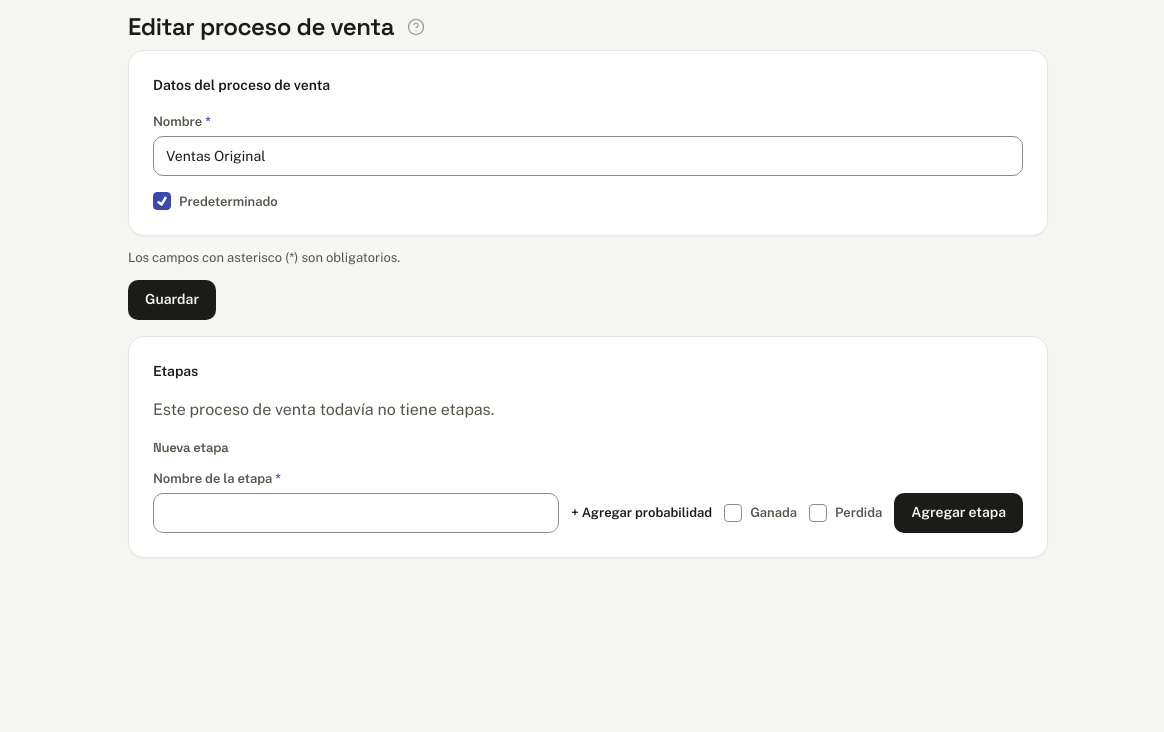
Test: PipelineFormPage › P20 edit mode: carga detail, hidrata isDefault, submit usa update sobre el id correcto, navega tras el éxito y muestra el toast
This screenshot has width=1164, height=732.
Expected: the field labelled "Nombre" holds "Ventas Original", left=153, top=136, right=1023, bottom=176
Click the checkbox labelled "Predeterminado" at (162, 201), box left=153, top=192, right=171, bottom=210
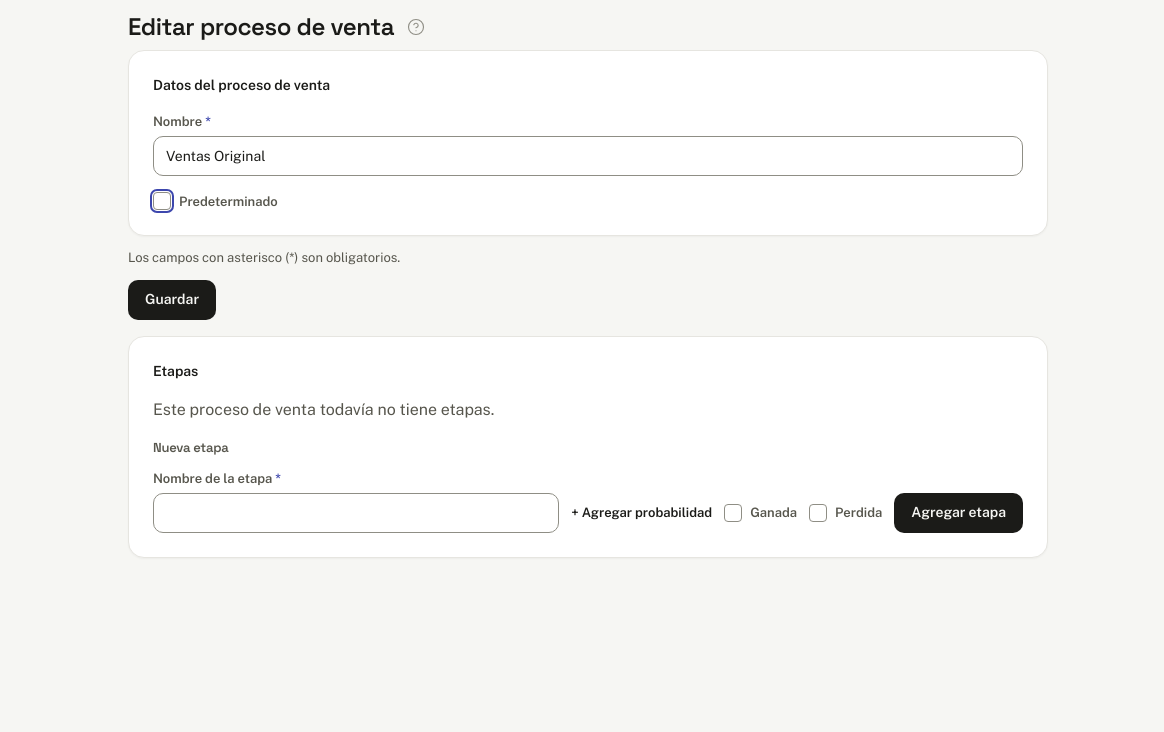
Result: the checkbox labelled "Predeterminado" is not checked at left=153, top=192, right=171, bottom=210
Replace the text in the field labelled "Nombre" with "Ventas Editada" at (588, 156), box left=153, top=136, right=1023, bottom=176
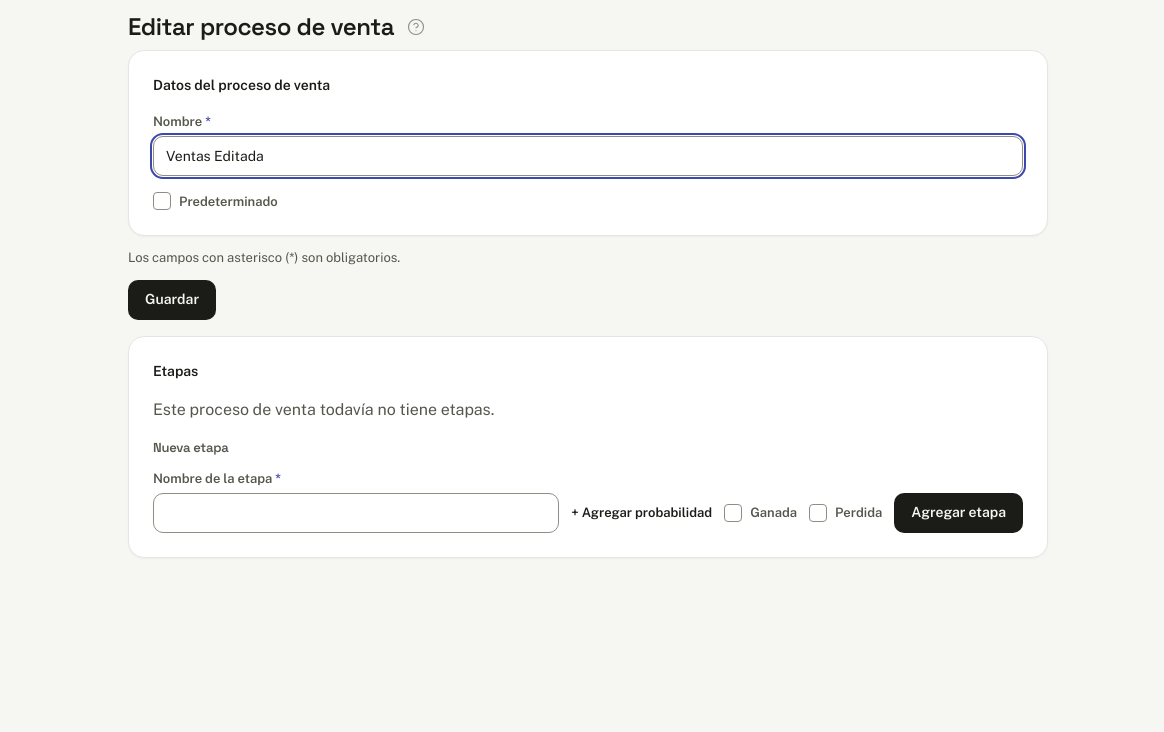
Click the button "Guardar" at (172, 300), box left=128, top=280, right=216, bottom=320
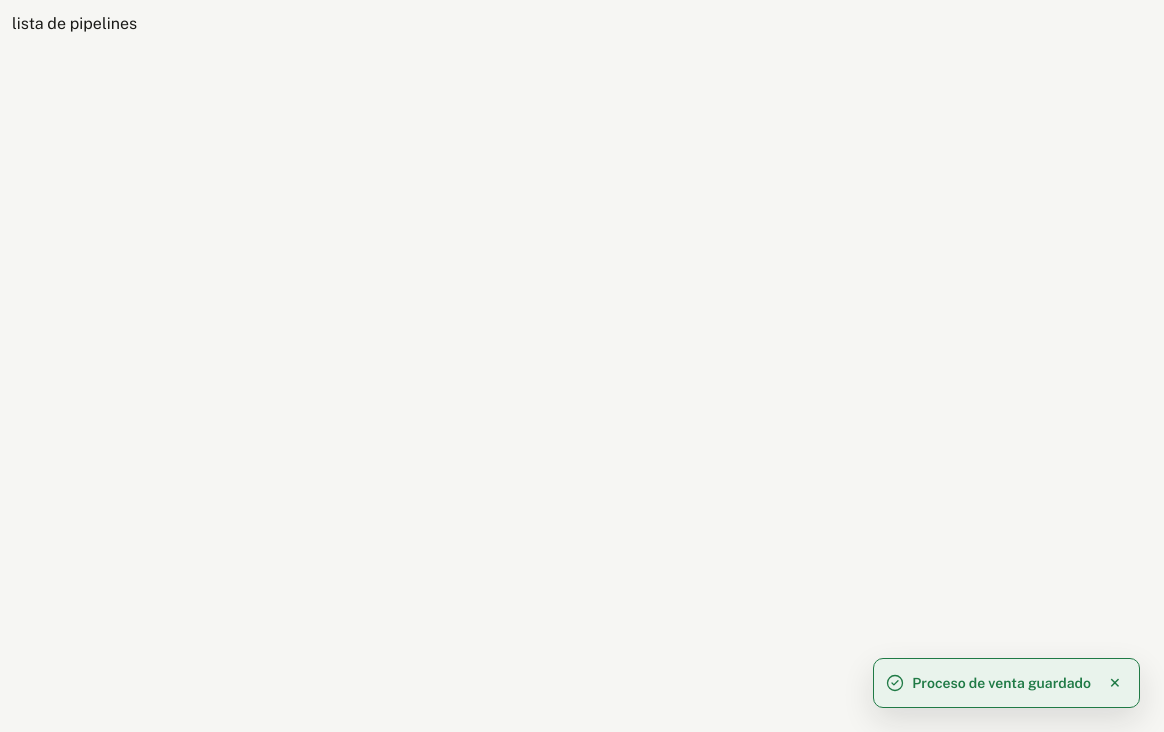
Result: the text "lista de pipelines" is shown at left=12, top=14, right=137, bottom=33
Result: the message shows "Proceso de venta guardado" at left=912, top=674, right=1091, bottom=690
